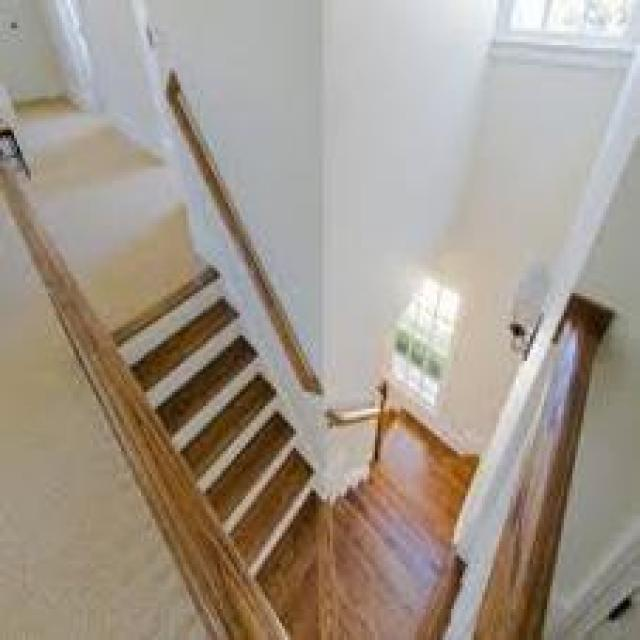upstair: (145, 280, 325, 537)
